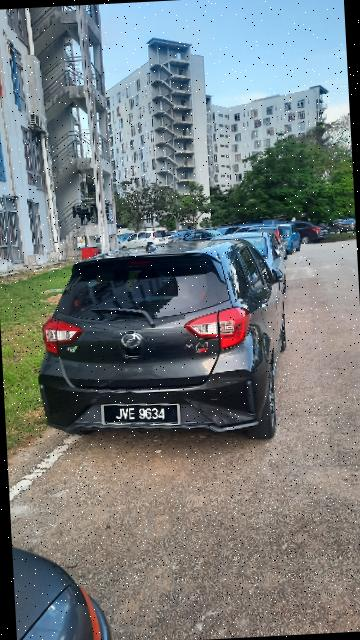License_Plate: (100, 398, 184, 431)
car: (34, 236, 295, 458)
